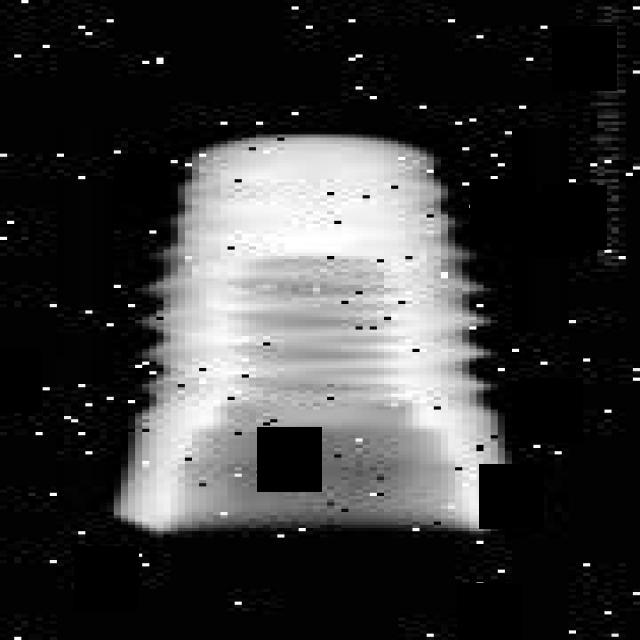Titan Implant Implant: (107, 128, 533, 534)
